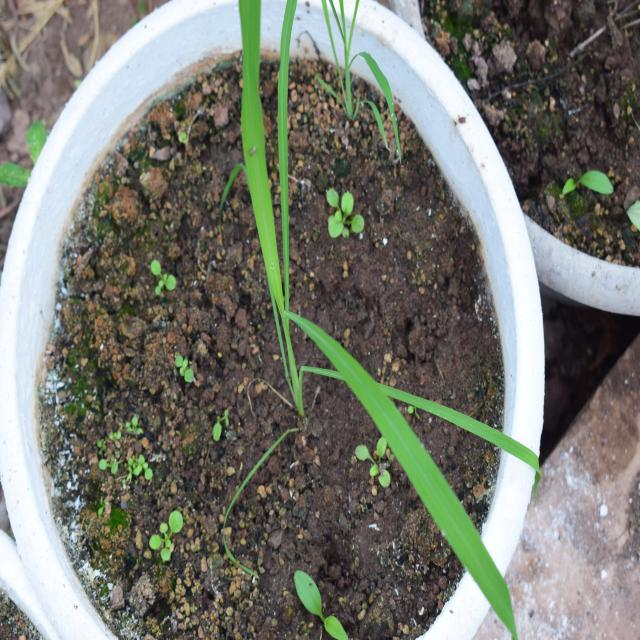barnyard_grass: (225, 11, 532, 610)
